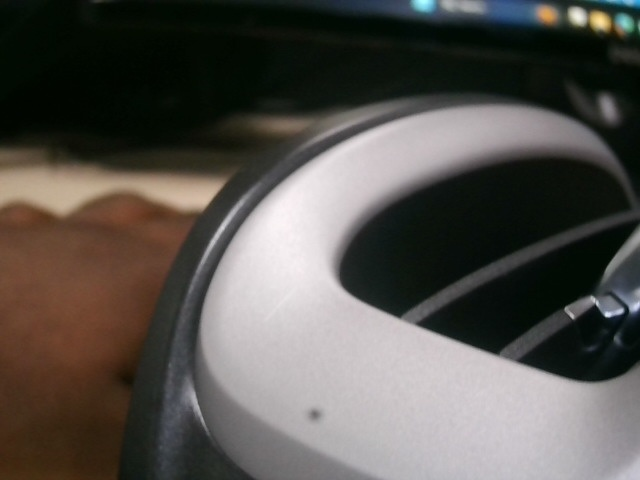NG: (255, 280, 302, 335)
